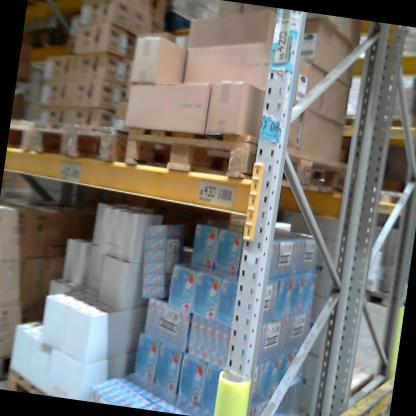pallet: (118, 117, 347, 207), (27, 106, 132, 170), (0, 340, 42, 392), (5, 366, 55, 394), (8, 112, 39, 157), (363, 108, 416, 134)
